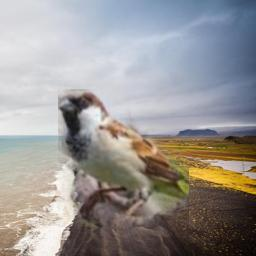Sparrow: (58, 89, 189, 227)
